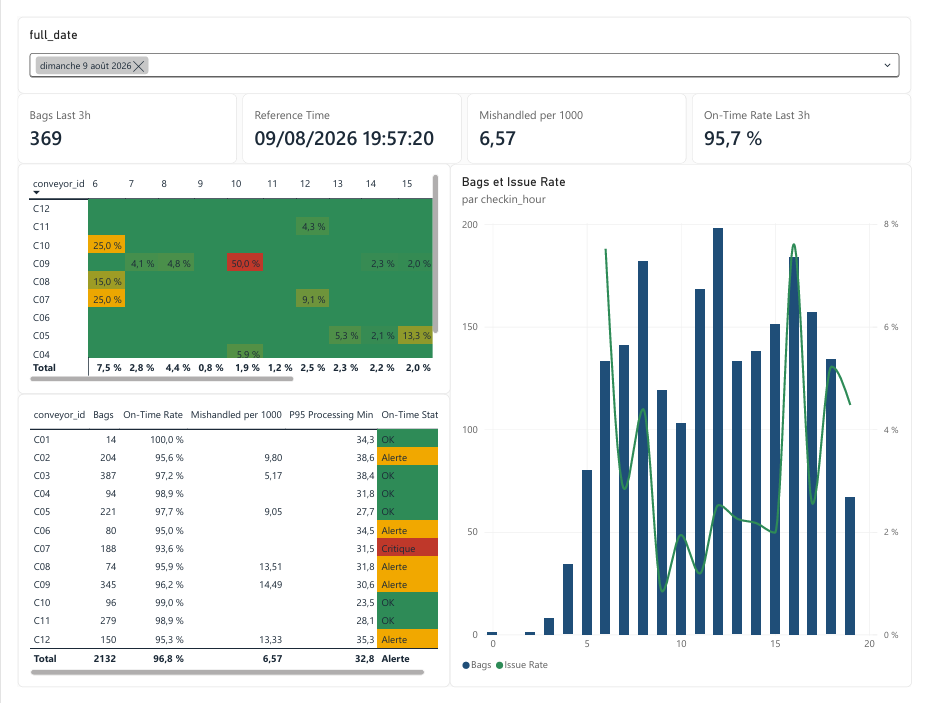

This screenshot's page, from the dashboard's own definition file:
{"tool":"powerbi","page":{"name":"Temps réel","canvas":[1280,960],"ordinal":0},"visuals":[{"type":"cardVisual","fields":{"Data":["_Mesures.Bags Last 3h","_Mesures.Reference Time","_Mesures.Mishandled per 1000","_Mesures.On-Time Rate Last 3h"]},"box":[0,110,1280,100],"z":0},{"type":"listSlicer","fields":{"Values":["dim_date.full_date"]},"box":[0,0,1280,110],"z":1},{"type":"lineClusteredColumnComboChart","fields":{"Category":["fact_baggage.checkin_hour"],"Y":["_Mesures.Bags"],"Y2":["_Mesures.Issue Rate"]},"box":[619.1,210.6,661.7,748.9],"z":2},{"type":"pivotTable","fields":{"Columns":["fact_baggage.checkin_hour"],"Rows":["dim_conveyor.conveyor_id"],"Values":["_Mesures.Issue Rate"]},"box":[0,210,620,330],"z":3},{"type":"tableEx","fields":{"Values":["dim_conveyor.conveyor_id","_Mesures.Bags","_Mesures.On-Time Rate","_Mesures.Mishandled per 1000","_Mesures.P95 Processing Min","_Mesures.On-Time Status"]},"box":[0,540.4,619.1,419.1],"z":4}]}

Visuals, with their boxes in screenshot pixels (x1, y1, x2, y2), scaled from the page's 1280x960 canvas onto the 925x703 screenshot:
cardVisual - _Mesures.Bags Last 3h x _Mesures.Reference Time: bbox=(0, 81, 924, 154)
listSlicer - dim_date.full_date: bbox=(0, 0, 924, 81)
lineClusteredColumnComboChart - fact_baggage.checkin_hour x _Mesures.Bags: bbox=(447, 154, 924, 702)
pivotTable - fact_baggage.checkin_hour x dim_conveyor.conveyor_id: bbox=(0, 154, 448, 395)
tableEx - dim_conveyor.conveyor_id x _Mesures.Bags: bbox=(0, 396, 447, 702)
